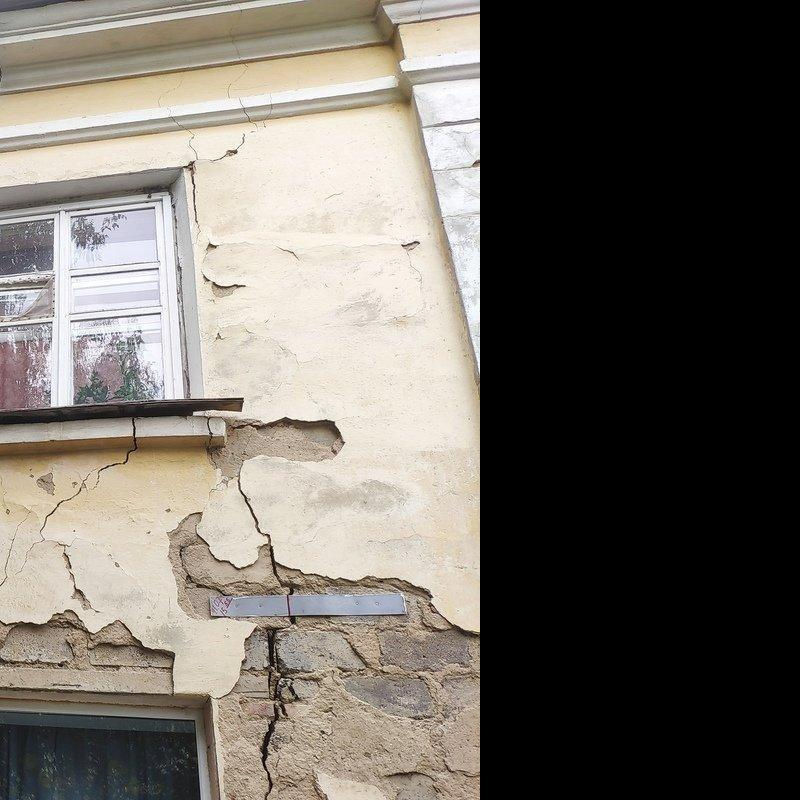pothole: (14, 466, 99, 577), (238, 461, 294, 595), (91, 417, 138, 491), (261, 702, 278, 799), (268, 616, 297, 666), (182, 161, 201, 235), (206, 417, 214, 451), (278, 700, 288, 718)
